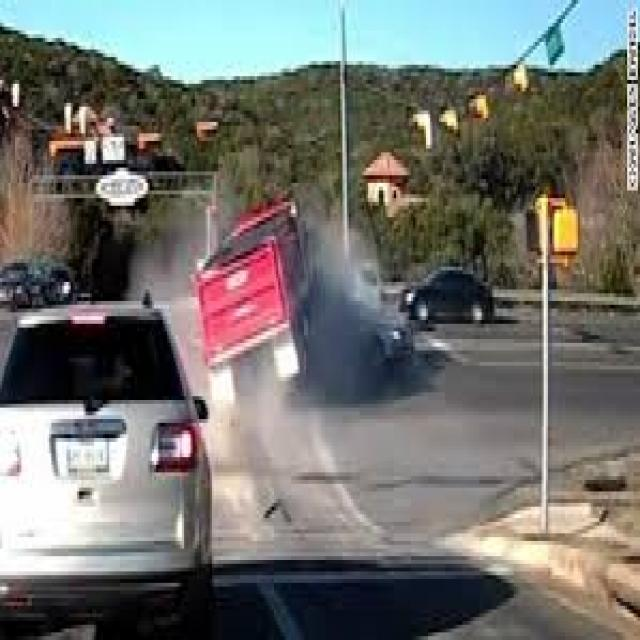accident: (178, 194, 413, 416)
